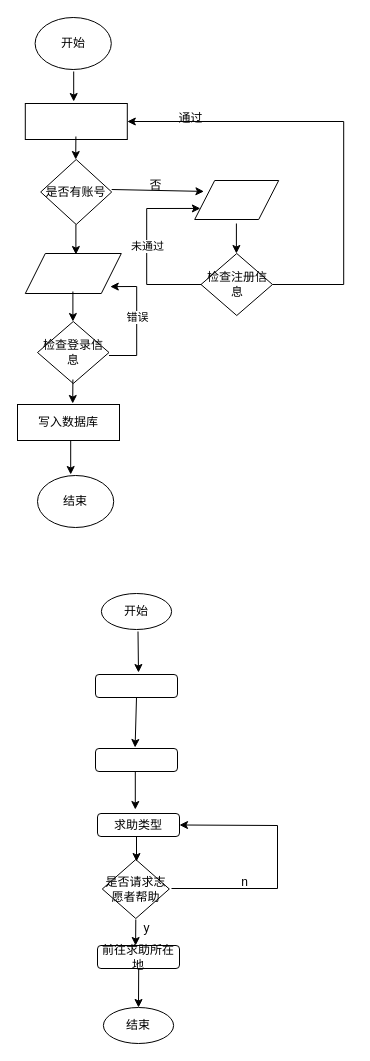
The diagram is 370 pixels wide and 1061 high, and some of its shapes have lost their labels. The shapes that lost their labels are listed below. From the top down, each one's box as (x1, y1, x2, y2) in pixels, then its label:
(24, 102, 127, 140): 登录界面
(194, 180, 279, 220): 填写注册信息
(24, 252, 121, 294): 输入账号和密码
(94, 674, 178, 698): 登录信息
(94, 748, 178, 772): 发布求助信息
